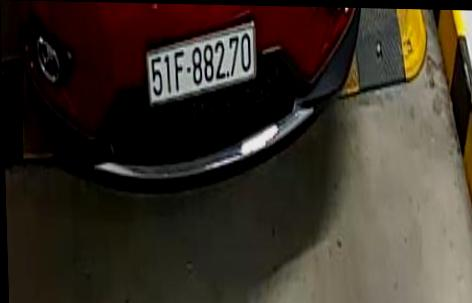License_Plate: (142, 20, 261, 113)
